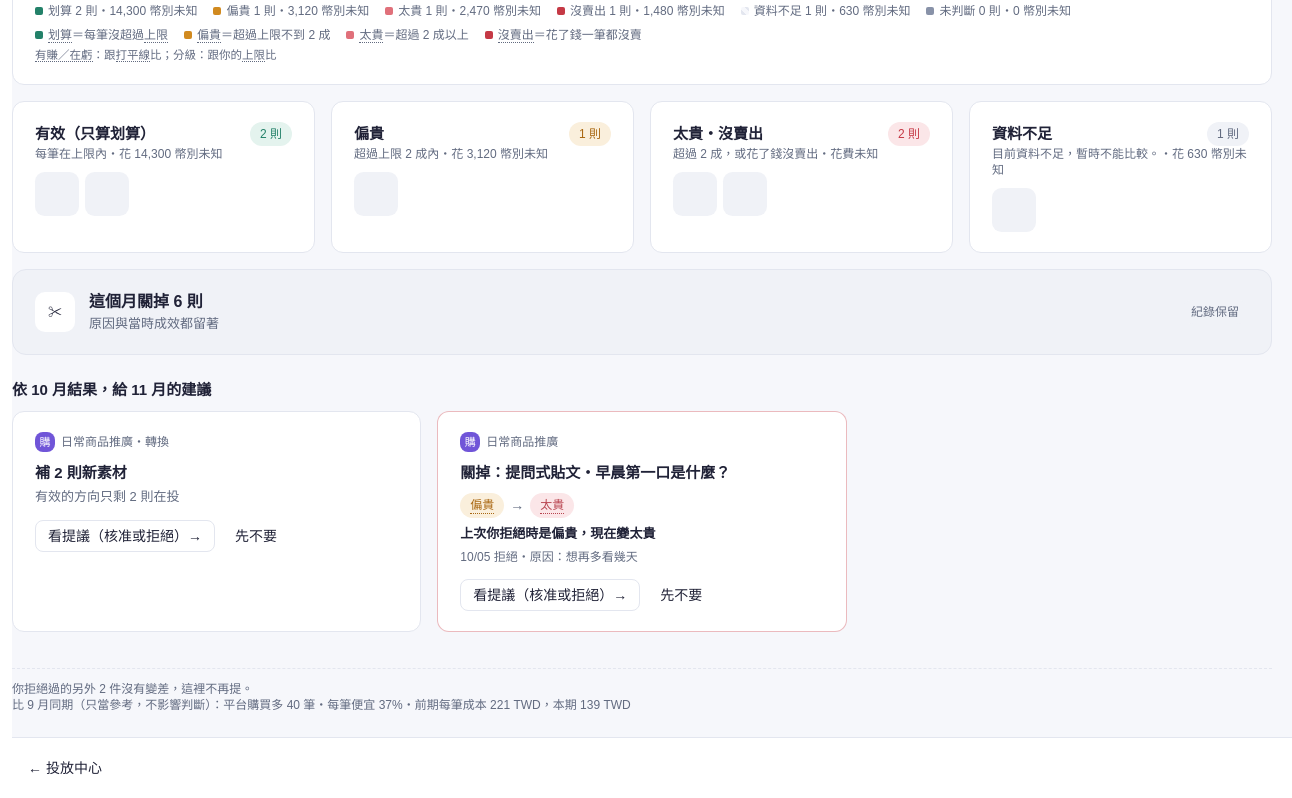
Test: MonthReviewPage — current month › brings a rejected cleanup back only when it got worse, and counts the rest in the footnote
This screenshot has width=1292, height=798.
(page scrolled)
Check: the text "上次你拒絕時是偏貴，現在變太貴" is shown, box [460, 526, 655, 541]
Check: the text "你拒絕過的另外 2 件沒有變差，這裡不再提。" is shown, box [12, 682, 253, 696]
Click the button "先不要" below "10/05".
click(681, 596)  # box [648, 580, 714, 612]
(page scrolled)
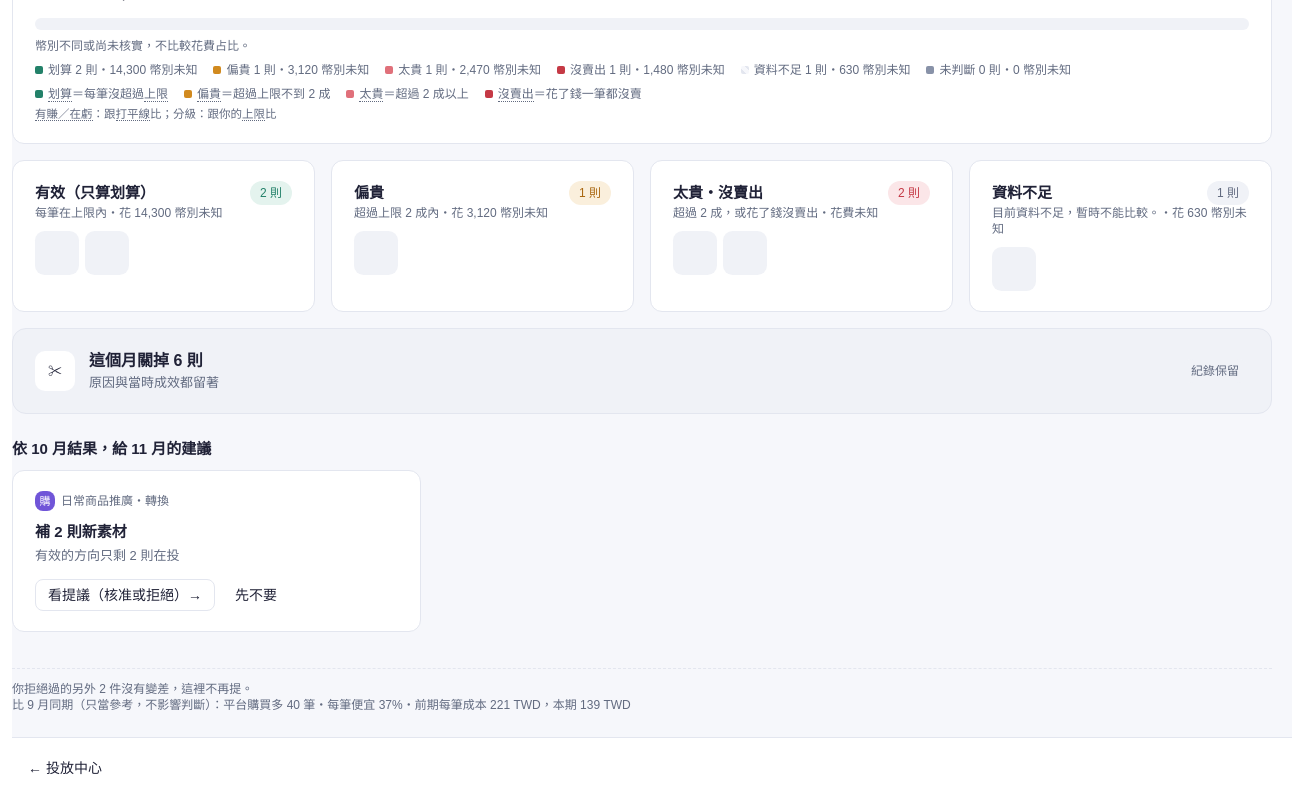
Check: the text "關掉：提問式貼文・早晨第一口是什麼？" is gone
